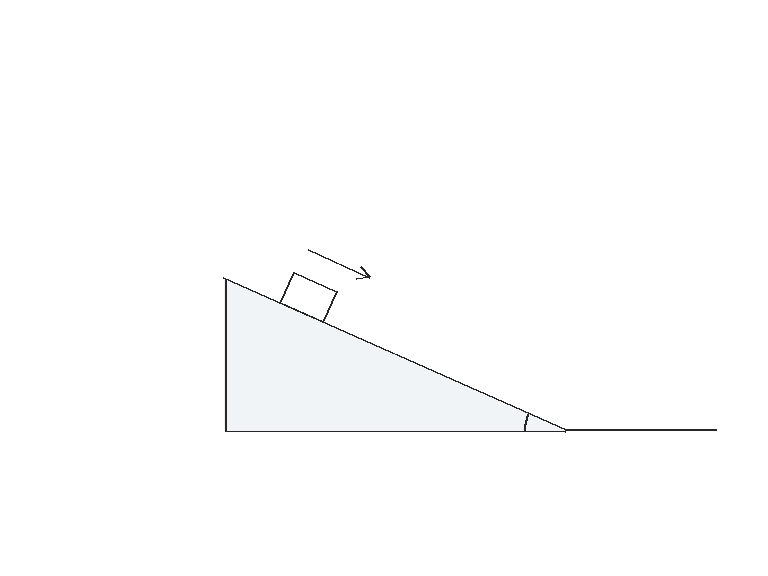block: (278, 270, 338, 324)
ramp: (222, 276, 567, 432)
